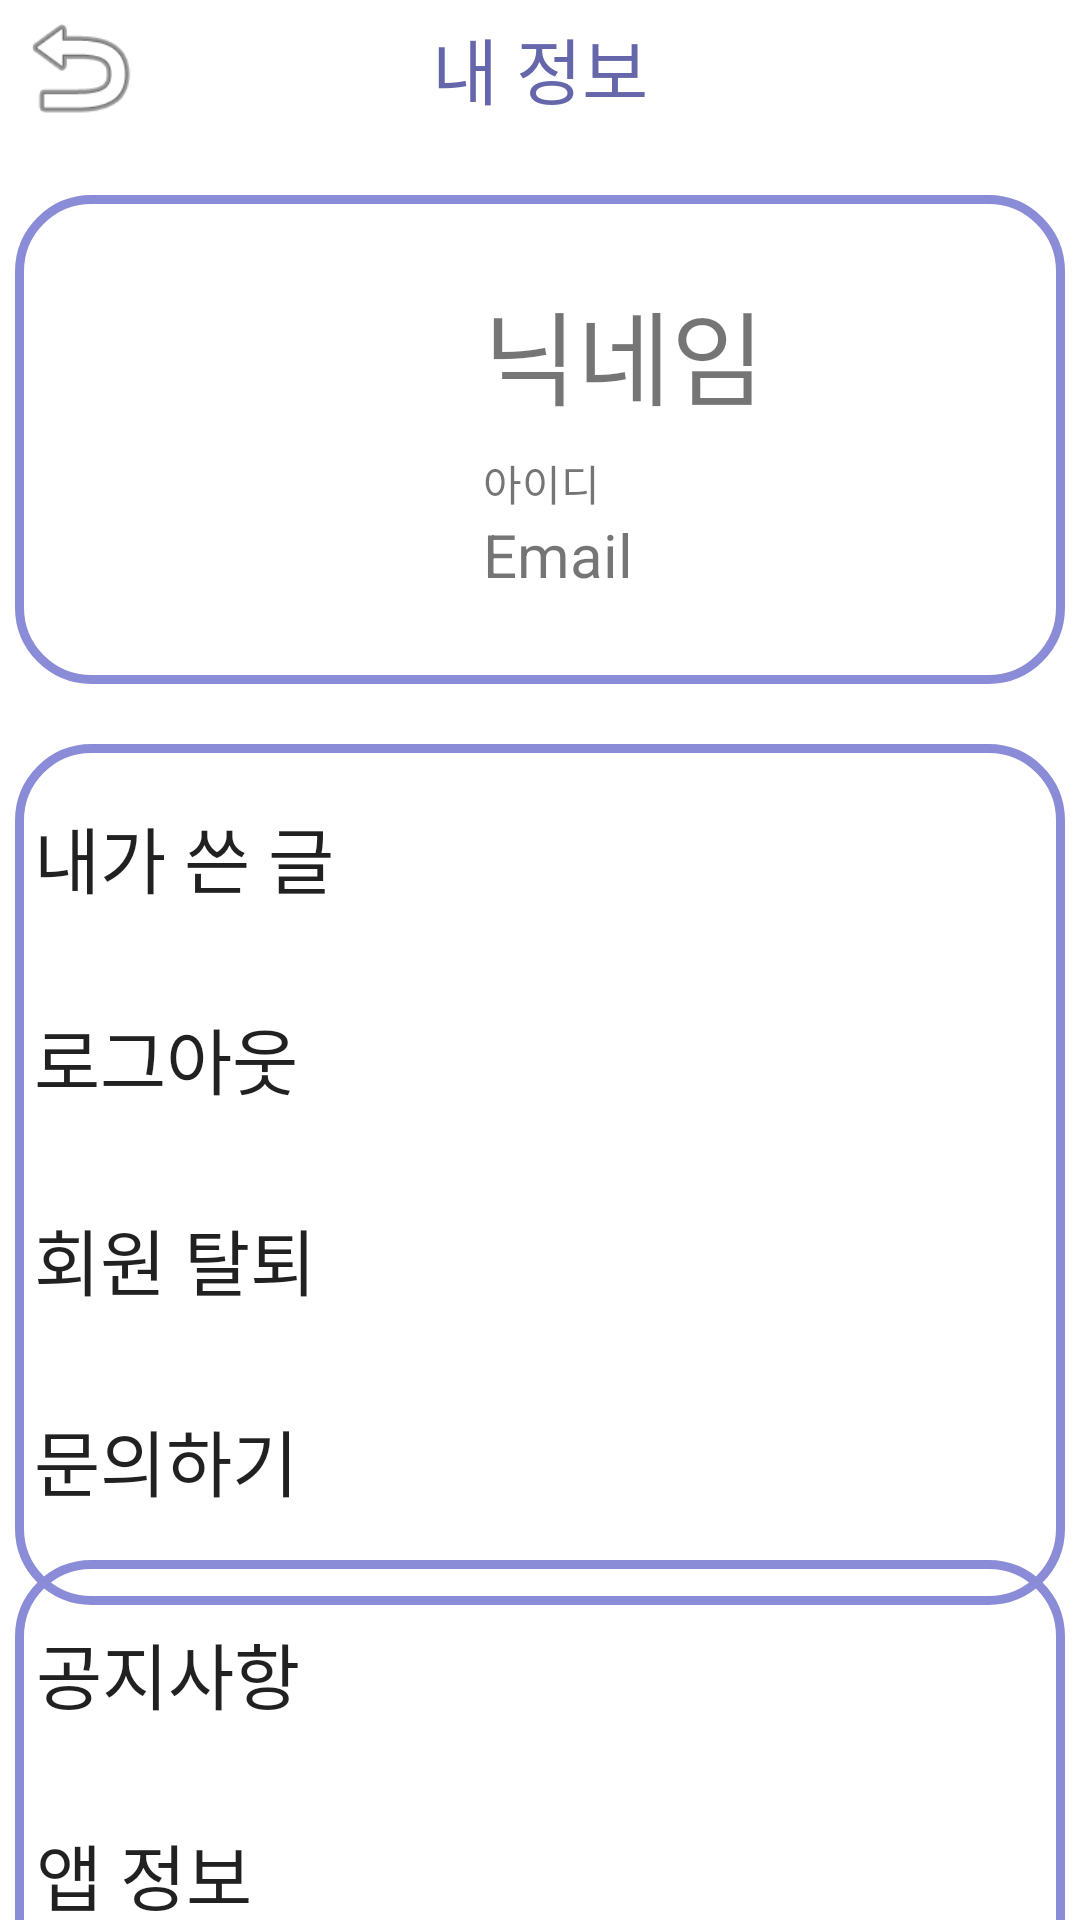

Icons on this 1080 x 1920 Android screen, each with its box as bbox=(x1, y1, x2, y2):
revert: bbox=(33, 24, 130, 113)
